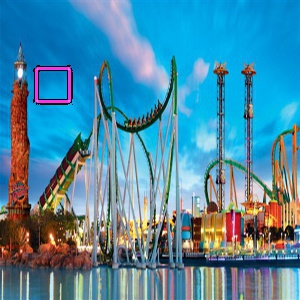square: (32, 64, 74, 106)
